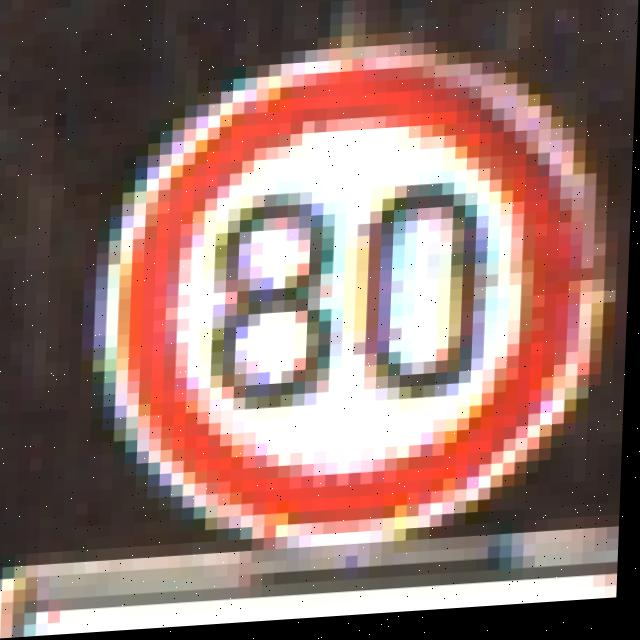speed_limit_80: (106, 10, 592, 562)
